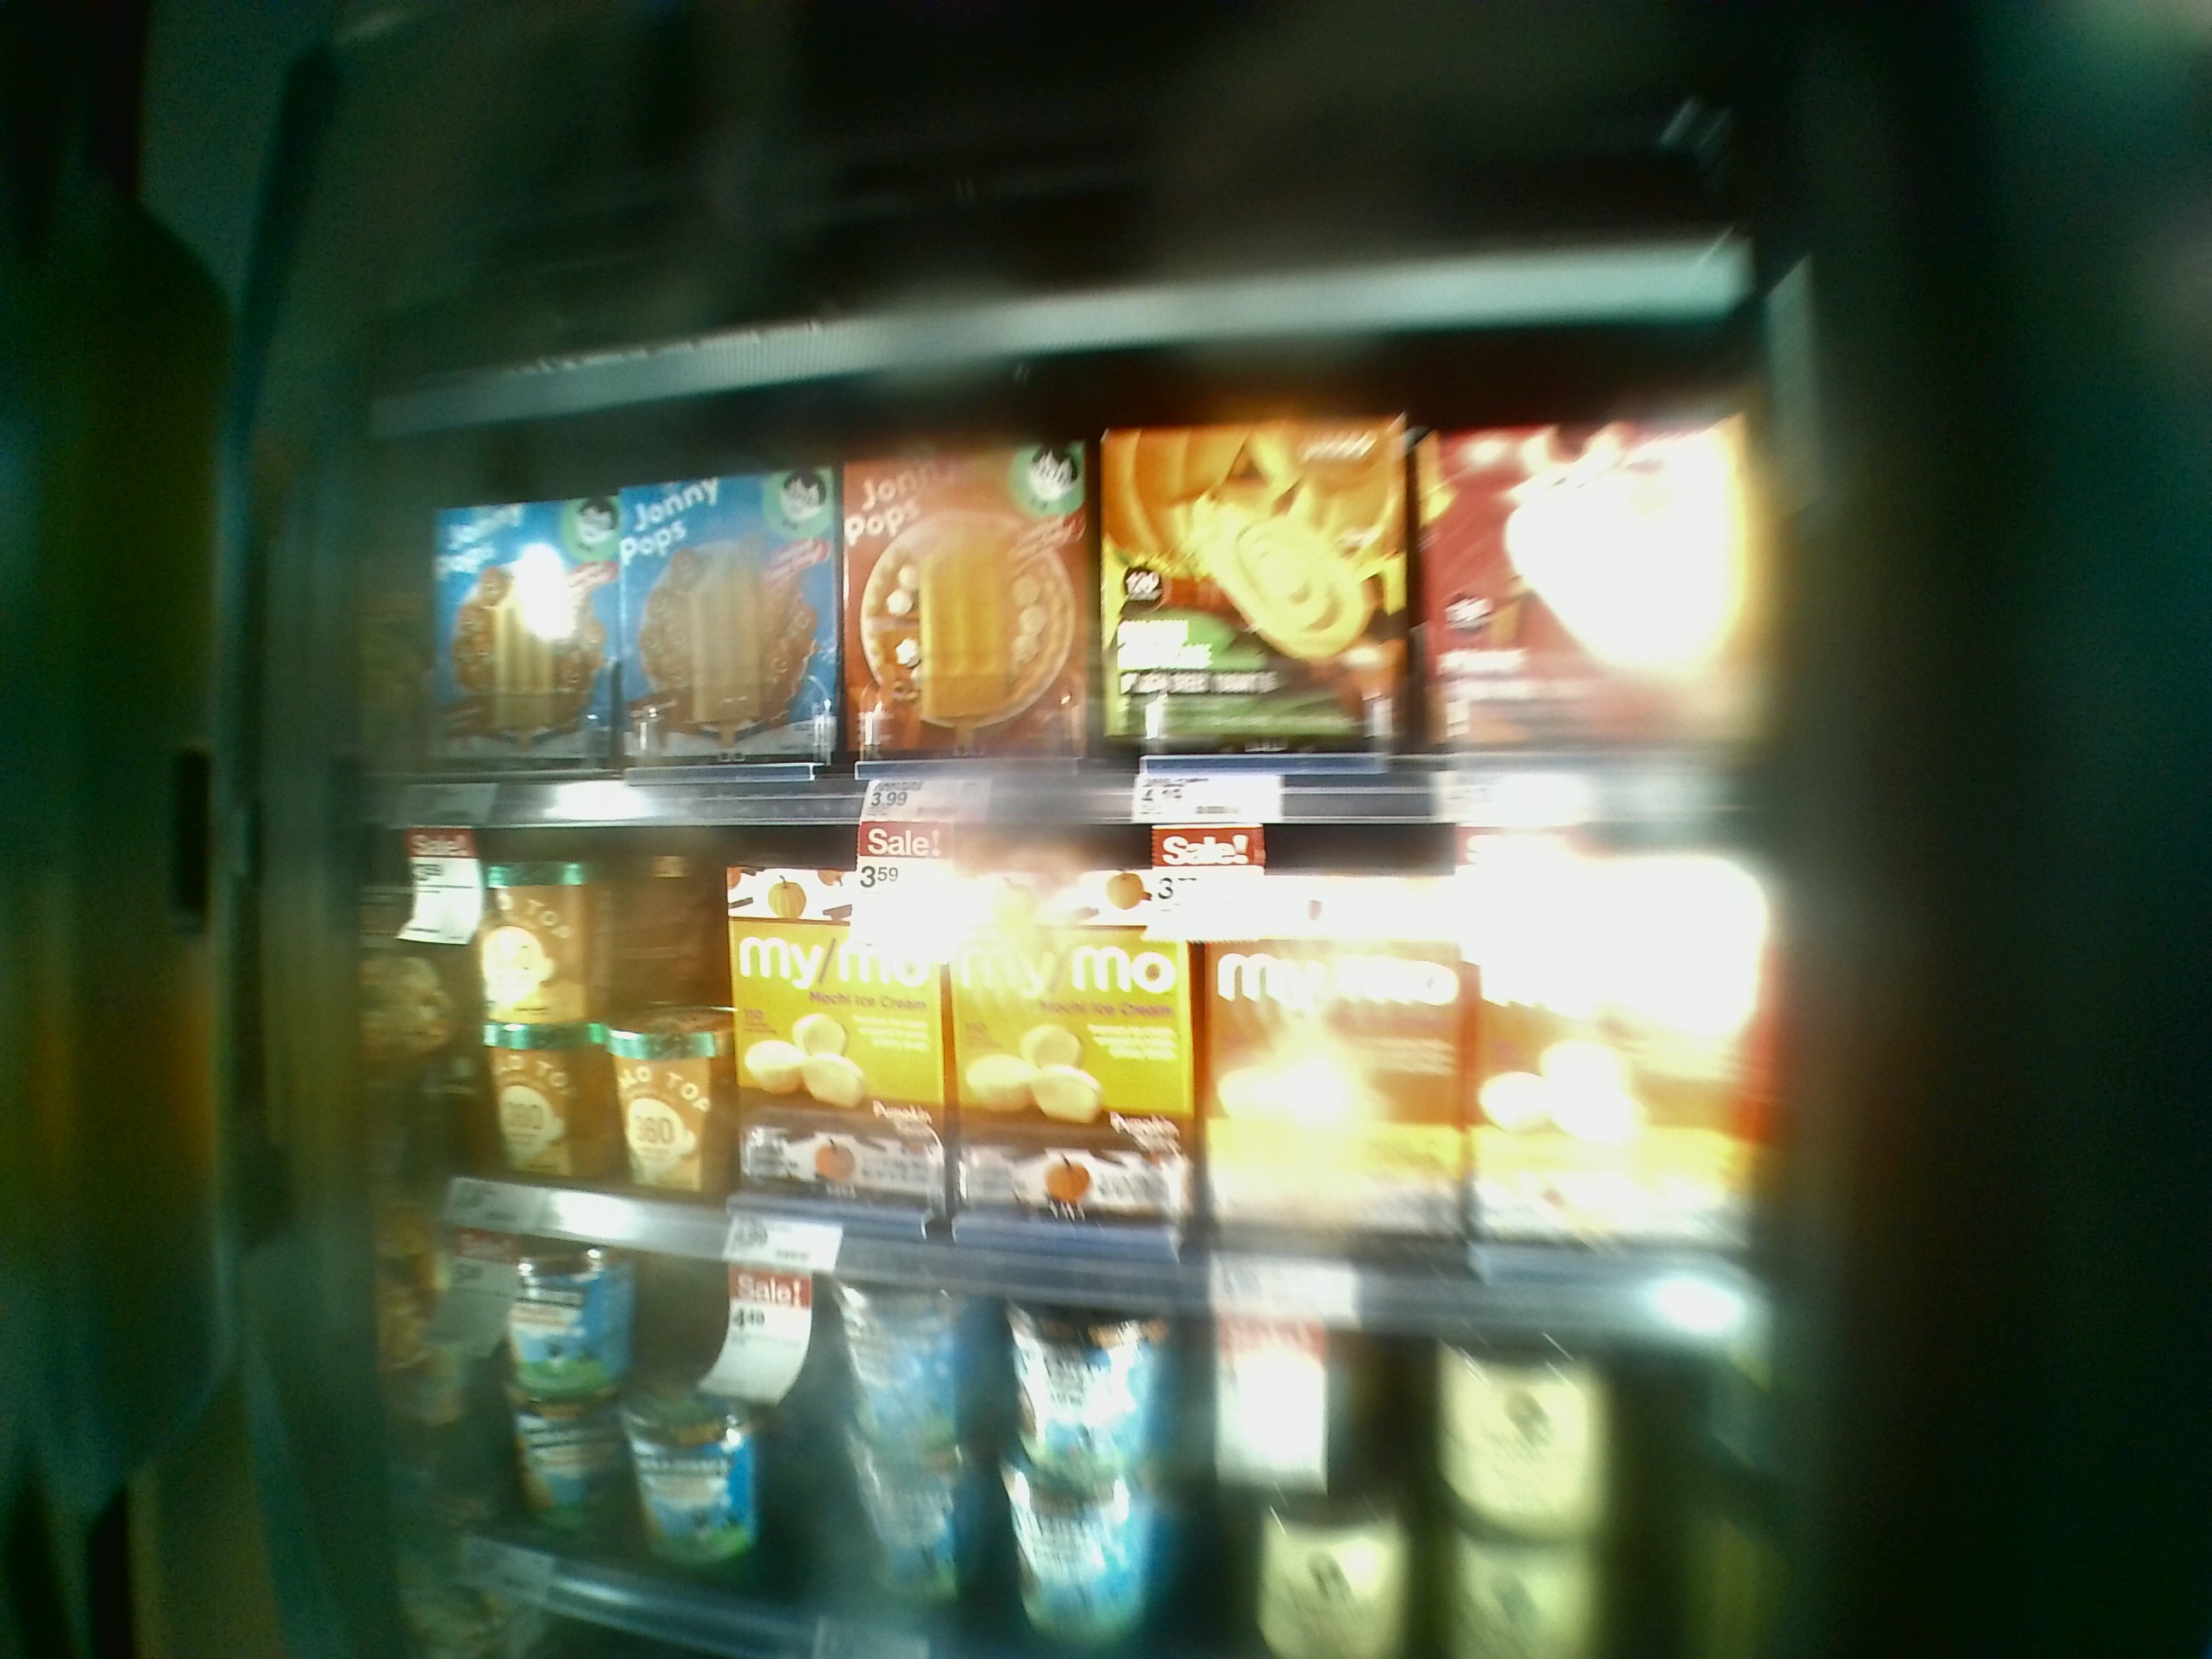shelf: (364, 760, 1773, 1337), (374, 364, 1768, 803)
